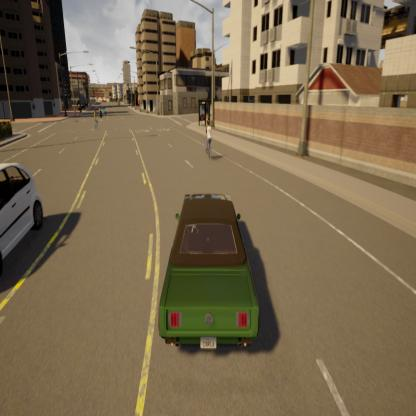Cars: (149, 173, 269, 388), (0, 135, 44, 313)
Pedestrian: (90, 102, 102, 139)
